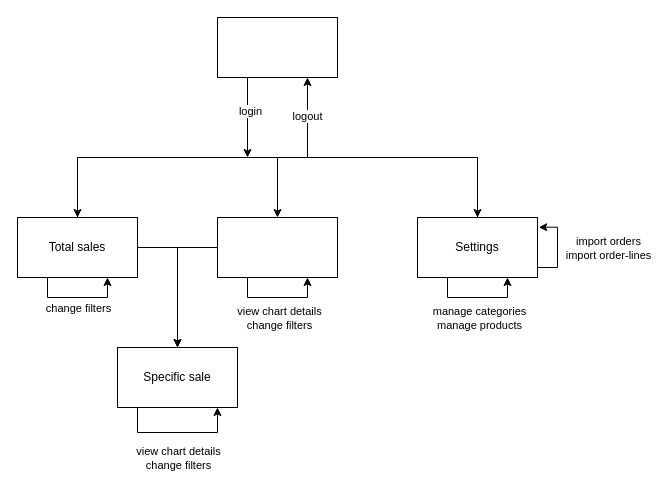
Some shapes in this 668 by 488 pixel diagram are drawn without their labels. The centre of each missing label's shape, as x and y in pixels:
"Dashboard" belongs at (x=277, y=247).
"Start page" belongs at (x=277, y=47).
